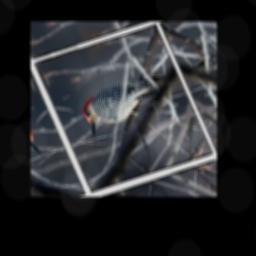Woodpecker: (71, 71, 168, 141)
